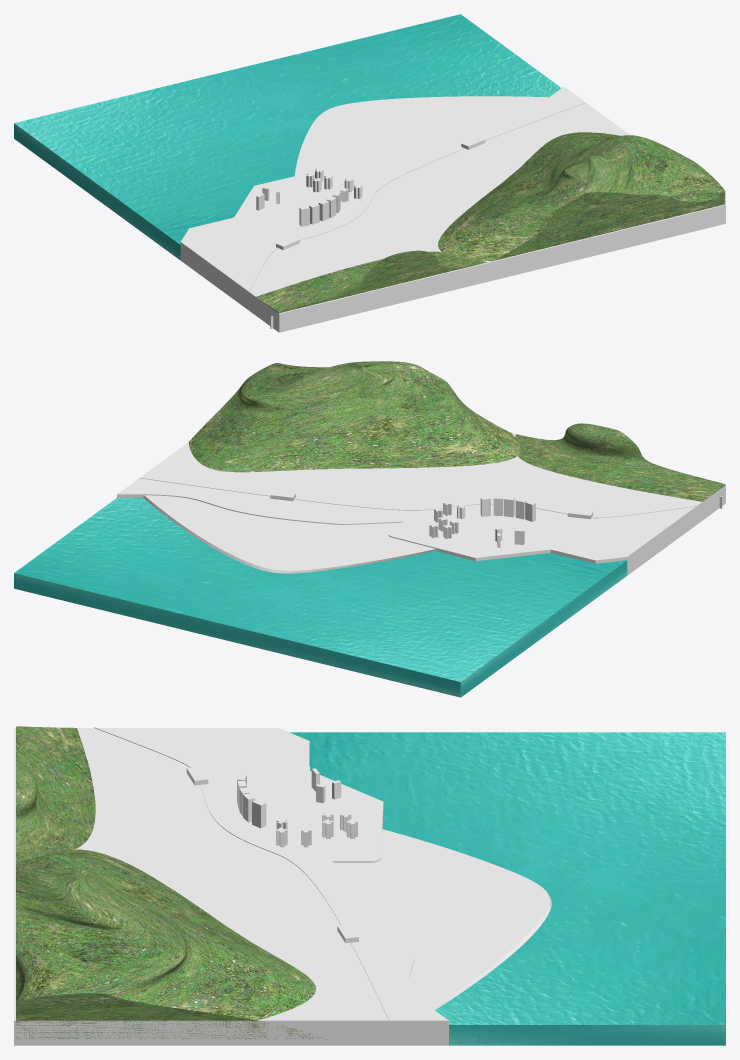
The model's file is Untitled_RhinoExported_GLB.glb.
3 views of the same model, one above another, from view 1: azimuth 30°, elevation 25°; view 2: azimuth 150°, elevation 25°; view 3: azimuth 270°, elevation 25° (orthographic). The views are drawn at different scales.
Parts seen in each view (by area): view 1: Sea, Land, Body_14*, Reclamation; view 2: Sea, Body_14*, Land, Reclamation, Alignment; view 3: Sea, Land, Body_14*, Reclamation, Alignment.
Boxes of the visible parts, <box> form: Sea: <box>14,14,561,260</box>; Land: <box>180,86,725,332</box>; Body_14*: <box>256,132,725,313</box>; Reclamation: <box>294,96,548,177</box>; Sea: <box>14,497,627,697</box>; Body_14*: <box>188,361,725,501</box>; Land: <box>117,432,725,575</box>; Reclamation: <box>143,495,435,573</box>; Alignment: <box>140,477,696,518</box>; Sea: <box>290,732,725,1045</box>; Land: <box>14,728,448,1045</box>; Body_14*: <box>16,726,327,1039</box>; Reclamation: <box>334,829,551,1039</box>; Alignment: <box>94,727,389,1019</box>.
Bounding box in the file's own units: 0.2 × 0.0317 × 0.2046.
3 materials, 2 textured.
